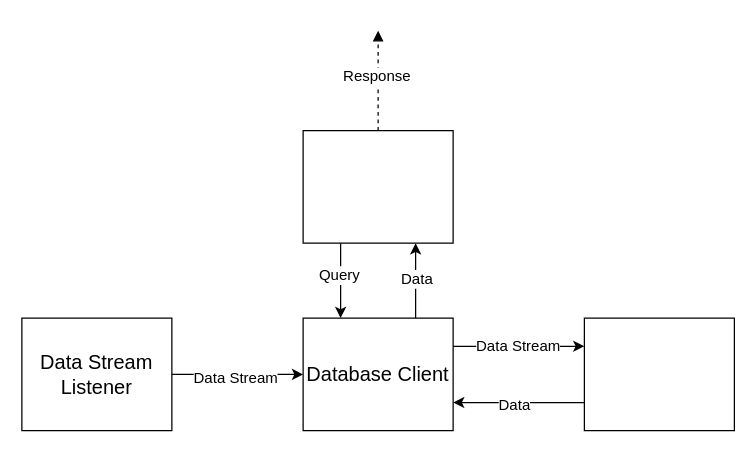
The diagram is 756 pixels wide and 453 high, and some of its shapes have lost their labels. The shapes that lost their labels are listed below. From the top down, each one's centre as x and y in pixels, then its label:
At point 377,186: "API".
At point 658,374: "Database".
